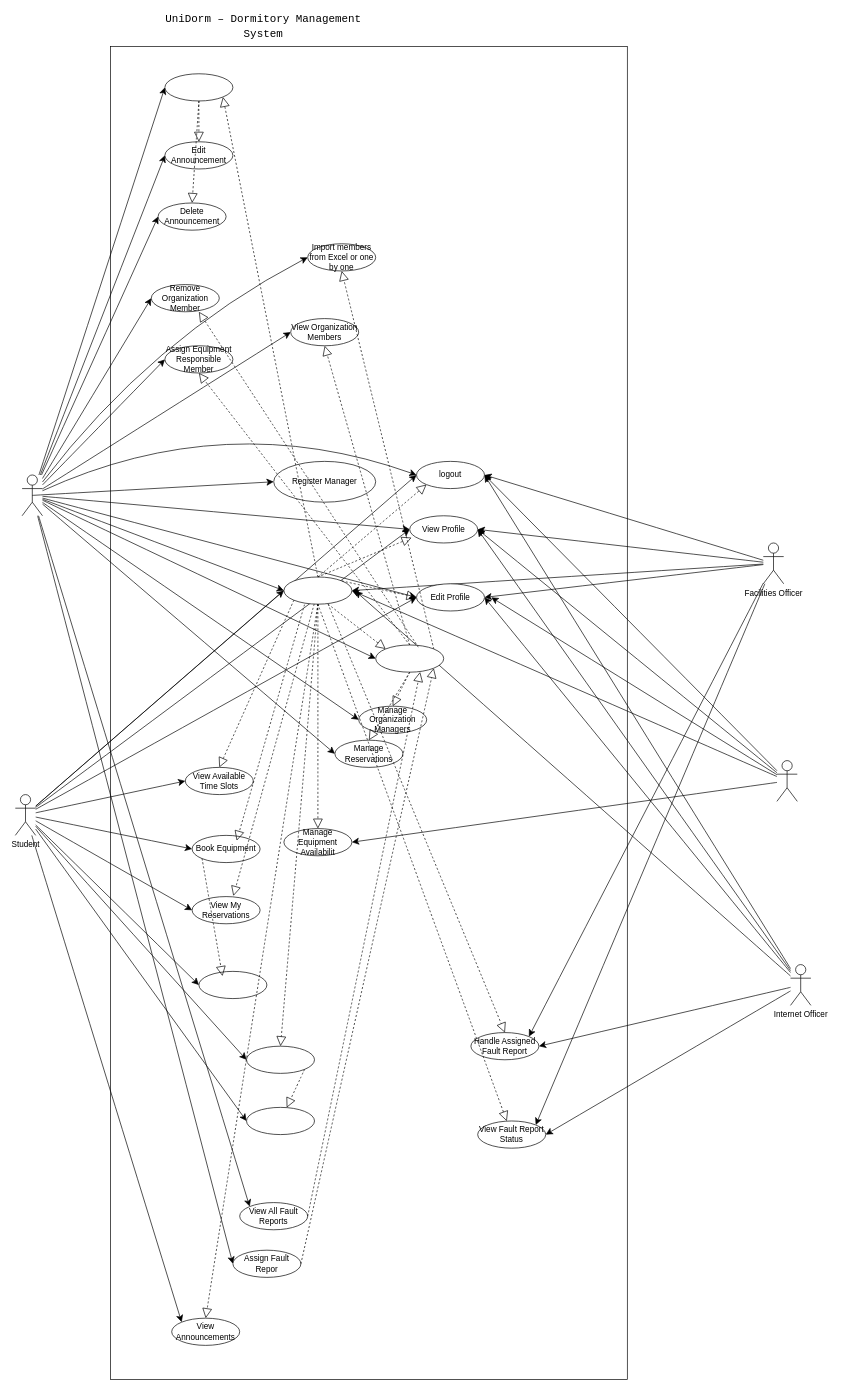
The diagram is 858 pixels wide and 1391 high, and some of its shapes have lost their labels. The shapes that lost their labels are listed below. From the top down, each one's centre as x and y in pixels, then its label:
the point at 198,87: Create Announcement
the point at 31,495: Manager
the point at 317,590: Login
the point at 409,658: Create / jion Organization
the point at 786,780: Equipment Responsible Member
the point at 232,985: Cancel Reservation
the point at 280,1059: Submit Fault Report
the point at 280,1121: View My Fault Reports
